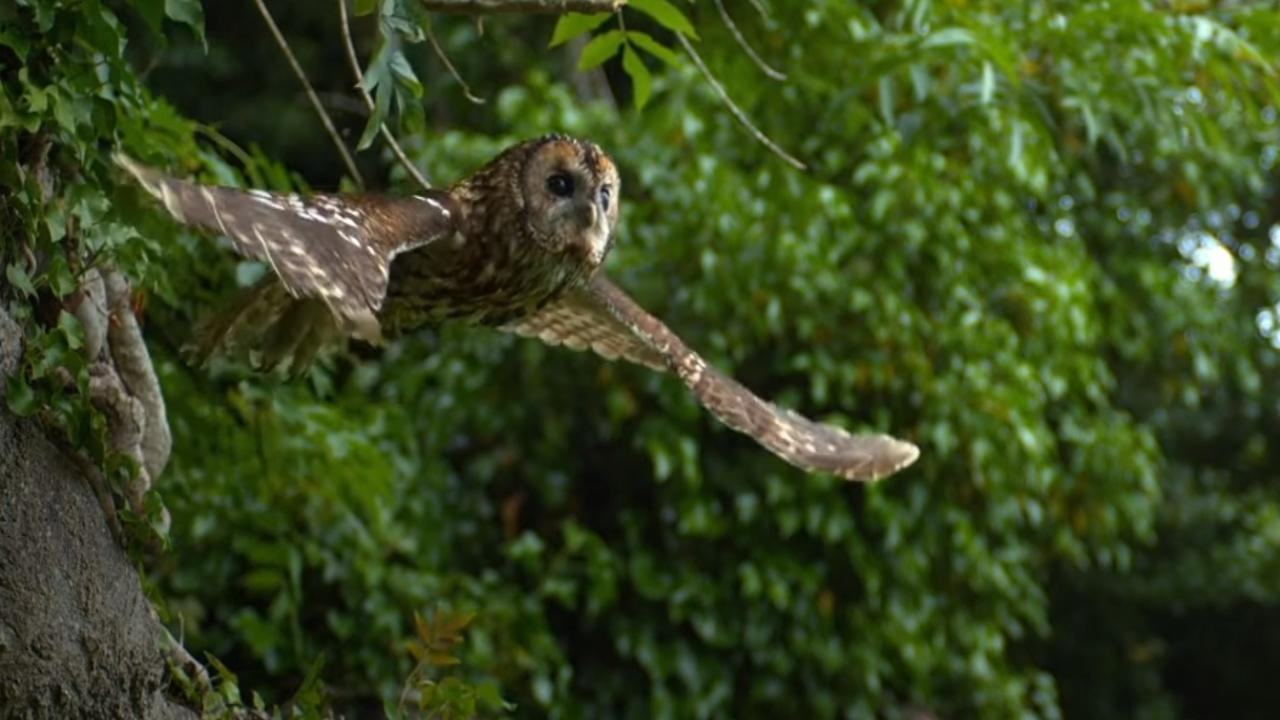Bird: (96, 124, 930, 492)
